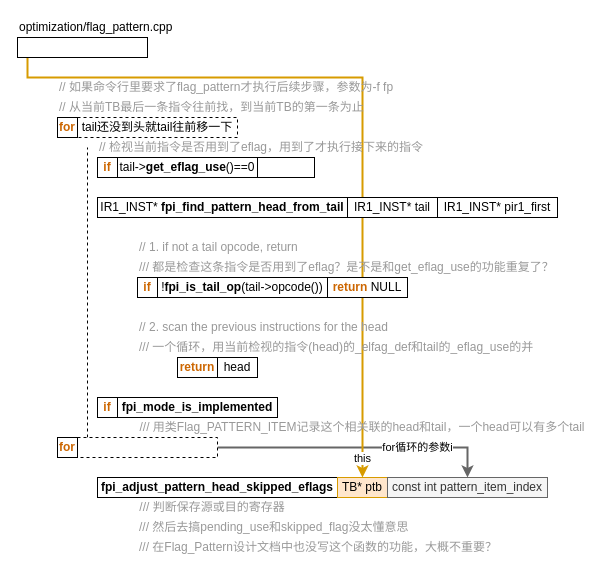
The diagram is 605 pixels wide and 574 high, and some of its shapes have lost their labels. Here are the shapes that lost their labels. From the top down, the box of each, then its label:
(16, 36, 148, 58): TB:: find_flag_pattern
(256, 156, 314, 178): continue
(76, 436, 218, 458): 对每一个flag pattern item
